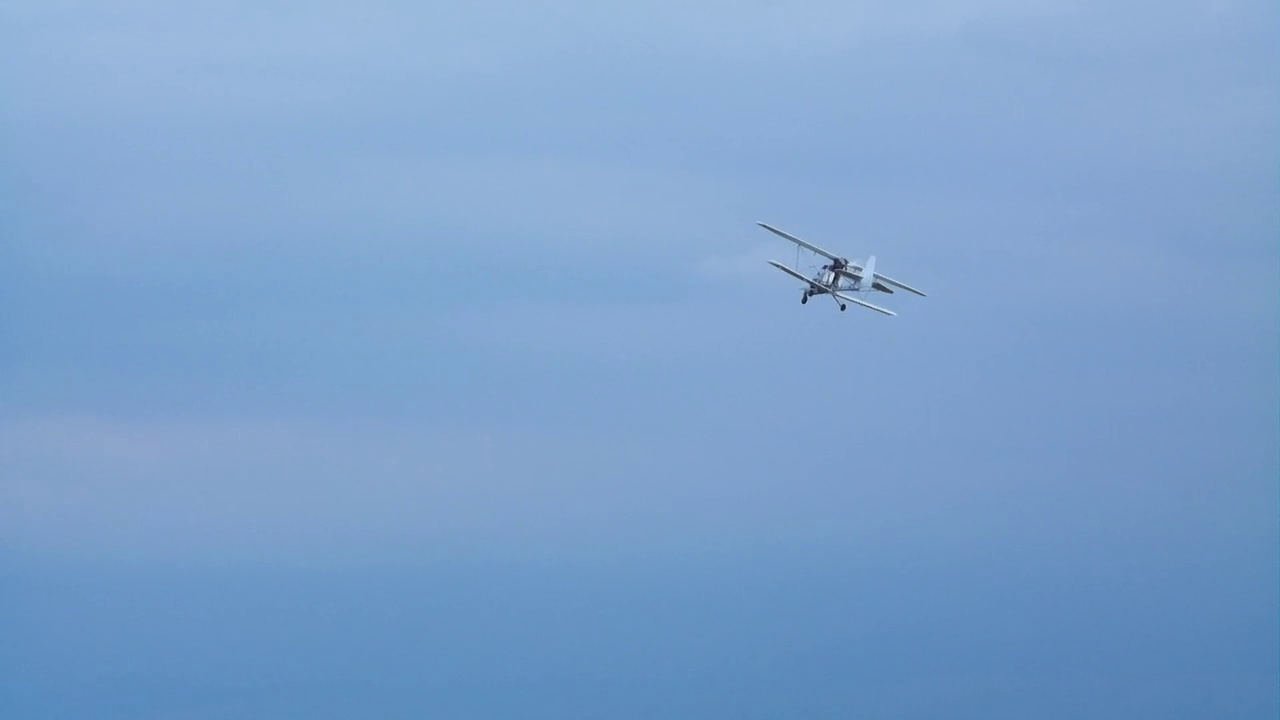plane: (757, 221, 926, 316)
